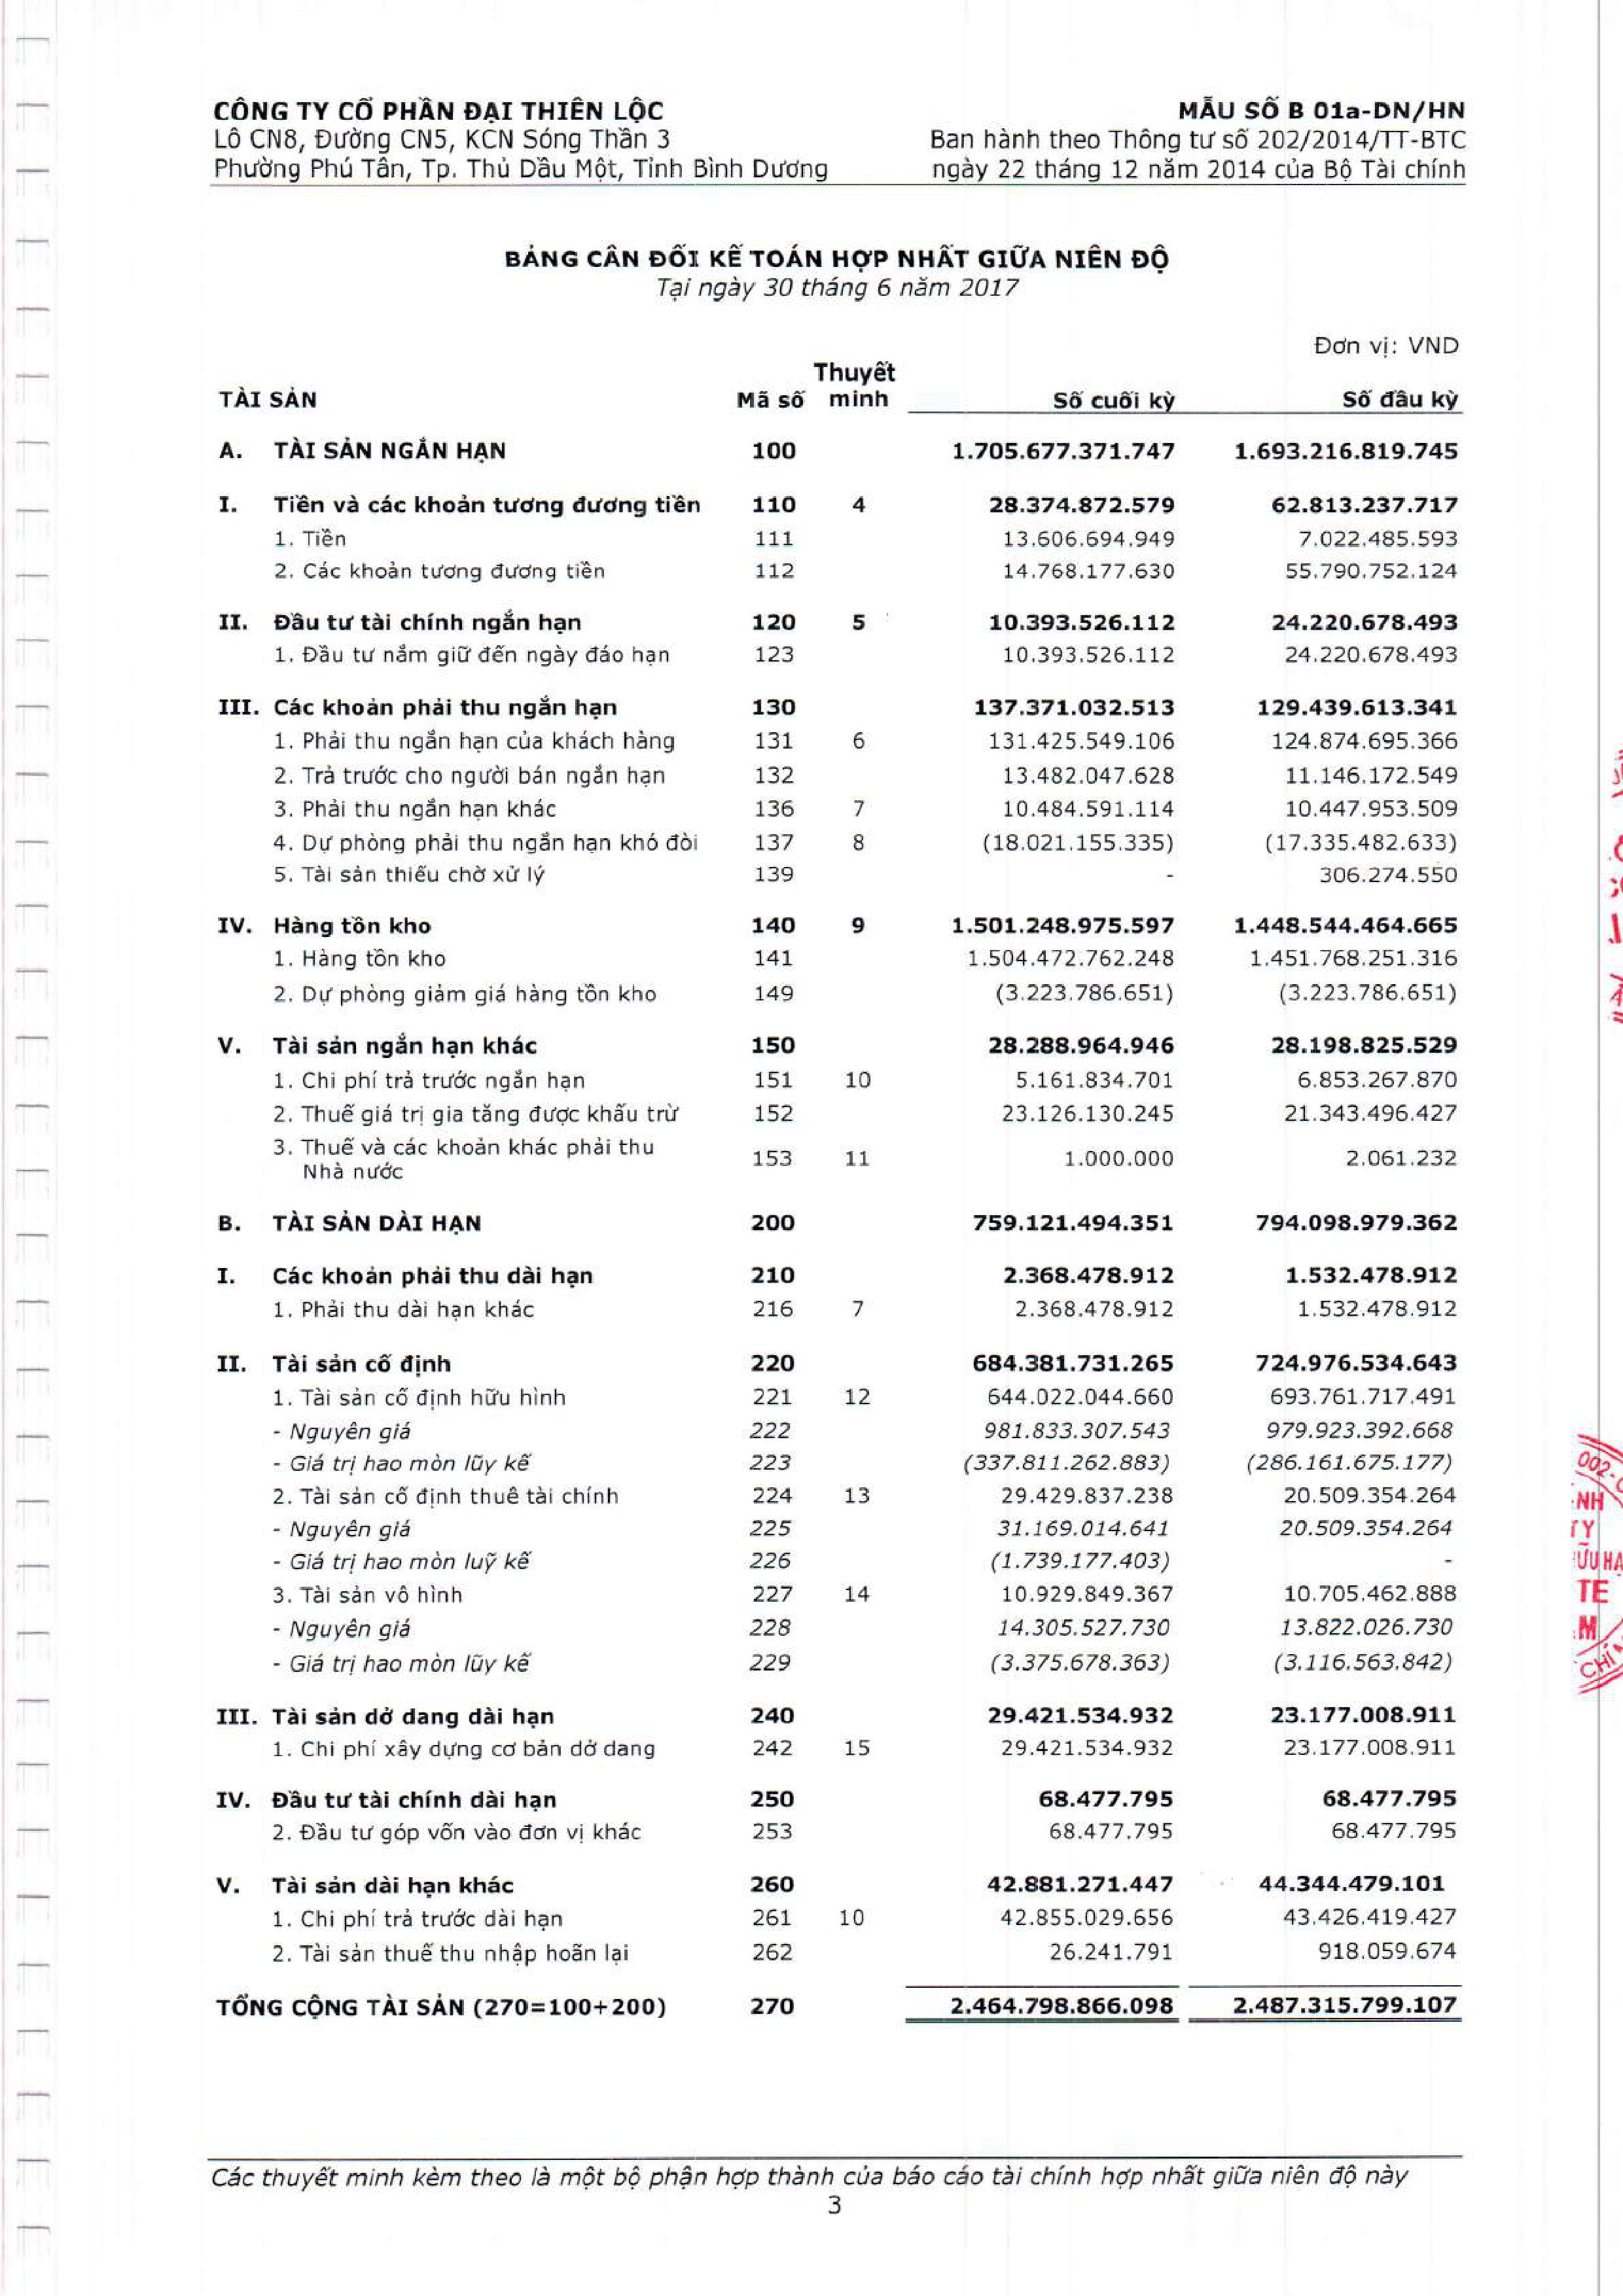table: (195, 355, 1474, 2031)
table column: (198, 355, 729, 2031), (929, 355, 1194, 2031), (1205, 355, 1460, 2031), (819, 355, 915, 2031), (736, 355, 810, 2031)
table column header: (195, 367, 1474, 427)
table row: (195, 365, 1474, 423), (195, 1127, 1474, 1181), (195, 1199, 1474, 1253), (195, 437, 1474, 488), (195, 491, 1474, 542), (195, 1978, 1474, 2013), (195, 669, 1474, 700), (195, 727, 1474, 758), (195, 637, 1474, 667), (195, 1280, 1474, 1309), (195, 544, 1474, 572), (195, 790, 1474, 818), (195, 820, 1474, 848), (195, 851, 1474, 879), (195, 883, 1474, 911), (195, 944, 1474, 972), (195, 976, 1474, 1004), (195, 1036, 1474, 1064), (195, 1067, 1474, 1095), (195, 1097, 1474, 1125), (195, 1369, 1474, 1397), (195, 1399, 1474, 1427), (195, 1460, 1474, 1489), (195, 1490, 1474, 1518), (195, 1522, 1474, 1550), (195, 1645, 1474, 1673), (195, 1706, 1474, 1734), (195, 1736, 1474, 1764), (195, 1797, 1474, 1826), (195, 1861, 1474, 1889), (195, 1892, 1474, 1920), (195, 576, 1474, 602), (195, 760, 1474, 786), (195, 1311, 1474, 1338), (195, 1431, 1474, 1457), (195, 1555, 1474, 1582), (195, 1617, 1474, 1643), (195, 1768, 1474, 1794), (195, 1924, 1474, 1950)
